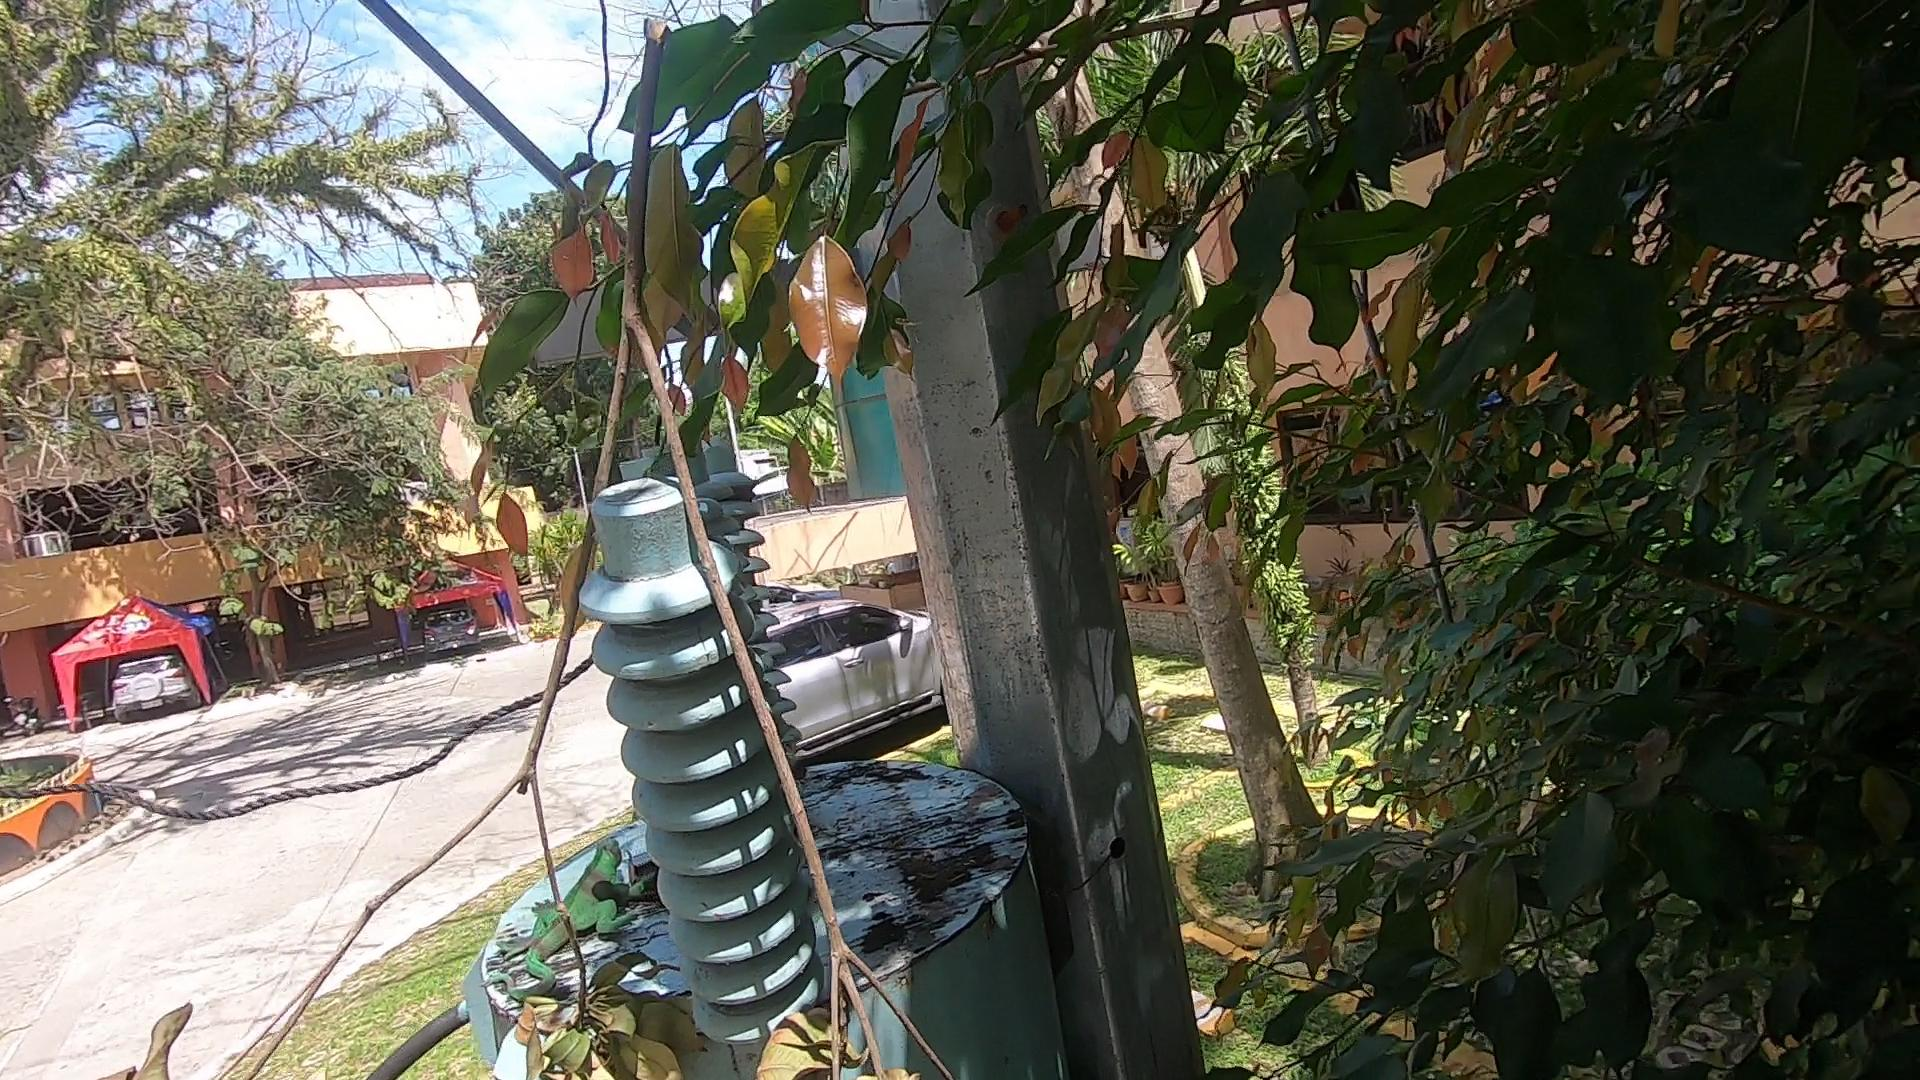branch with leaves: (87, 20, 959, 1080)
leaf: (622, 855, 662, 913)
